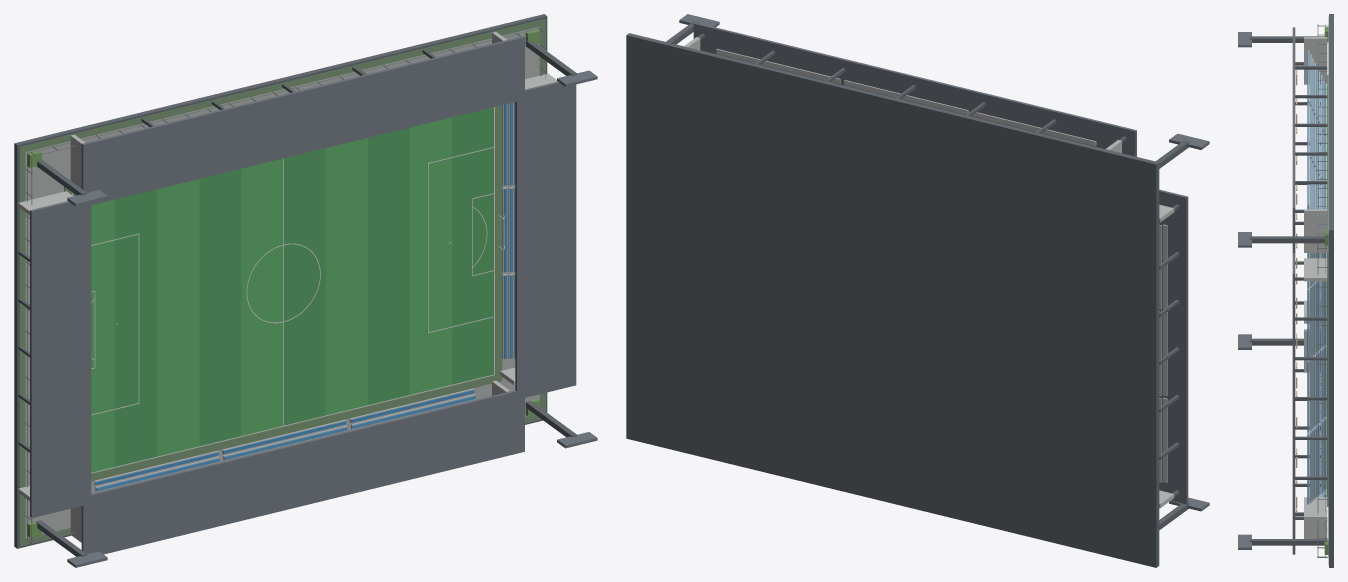
Rendered from stadium_level_3.glb.
3 views of the same model, side by side, from view 1: azimuth 30°, elevation 25°; view 2: azimuth 150°, elevation 25°; view 3: azimuth 270°, elevation 25° (orthographic). The views are drawn at different scales.
Parts seen in each view (by area): view 1: roof, grass3, grass2, ground, paving, dark, concrete, white, blue2, blue, rail; view 2: dark, roof, concrete; view 3: concrete, dark, roof, blue, blue2, rail, ground, paving, light, white, grass, hedge.
Part boxes in pixels (x1,y1,x2,y2): roof: [30, 36, 597, 567]; grass3: [115, 107, 493, 466]; grass2: [73, 117, 452, 472]; ground: [19, 19, 545, 546]; paving: [25, 26, 539, 538]; dark: [14, 14, 577, 556]; concrete: [18, 32, 557, 542]; white: [72, 107, 505, 473]; blue2: [96, 102, 513, 491]; blue: [95, 104, 507, 485]; rail: [25, 27, 546, 543]; dark: [626, 21, 1189, 567]; roof: [679, 14, 1209, 511]; concrete: [684, 37, 1174, 508]; concrete: [1304, 37, 1327, 538]; dark: [1249, 14, 1333, 567]; roof: [1238, 27, 1295, 554]; blue: [1307, 51, 1325, 504]; blue2: [1309, 55, 1323, 502]; rail: [1317, 24, 1327, 557]; ground: [1327, 17, 1328, 564]; paving: [1328, 24, 1328, 557]; light: [1296, 70, 1297, 511]; white: [1320, 85, 1326, 496]; grass: [1327, 85, 1327, 496]; hedge: [1324, 27, 1328, 554].
Size of the model in its own units: 136 by 98.64 by 24.7.
